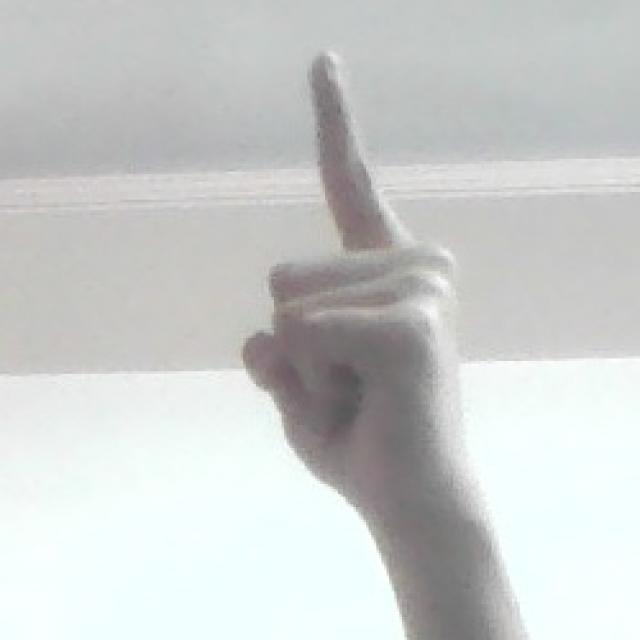Alphabet-I: (224, 50, 529, 554)
